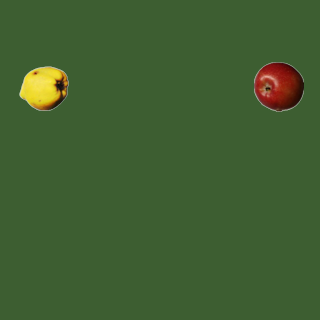Apple Braeburn: (253, 61, 303, 111)
Quince: (18, 63, 68, 113)
